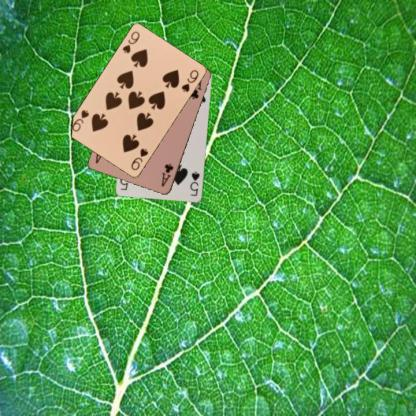5s: (188, 168, 201, 198)
9s: (128, 146, 150, 172), (120, 29, 141, 55)
Ac: (159, 162, 174, 188)
